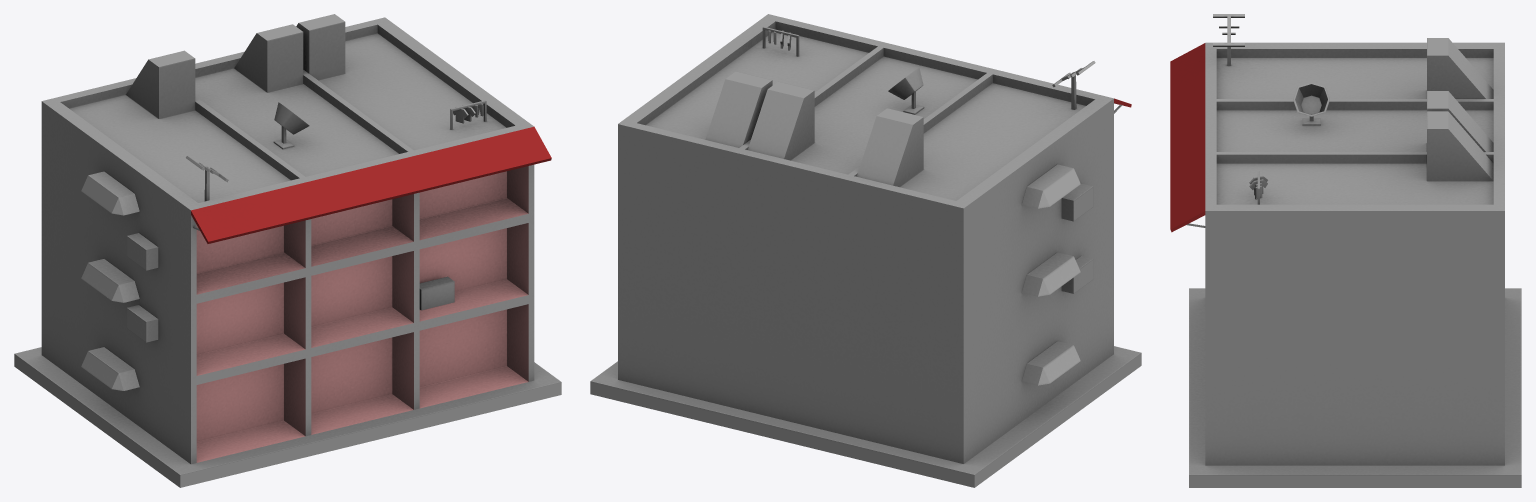
Rendered from Apartment.fbx.
3 renders of one model, left to right at view 1: azimuth 30°, elevation 25°; view 2: azimuth 150°, elevation 25°; view 3: azimuth 270°, elevation 25°, orthographic.
Parts seen in each view (by area): view 1: Apartment6; view 2: Apartment6; view 3: Apartment6.
Part boxes in pixels (box(x1,y1,x2,y2)): Apartment6: box(14, 14, 561, 487); Apartment6: box(590, 14, 1141, 487); Apartment6: box(1170, 14, 1521, 487).
Size of the model in its own units: 20.59 by 15.82 by 16.18.
1 material, 1 textured.
